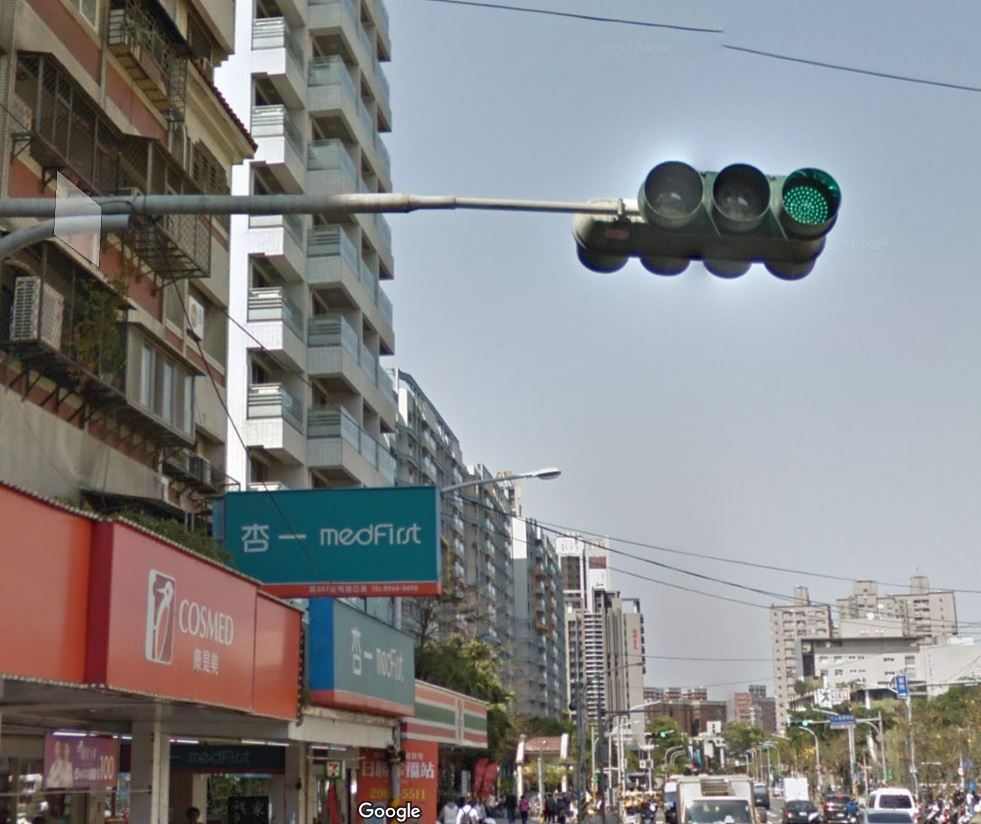Traffic_light_green: (560, 133, 863, 309)
